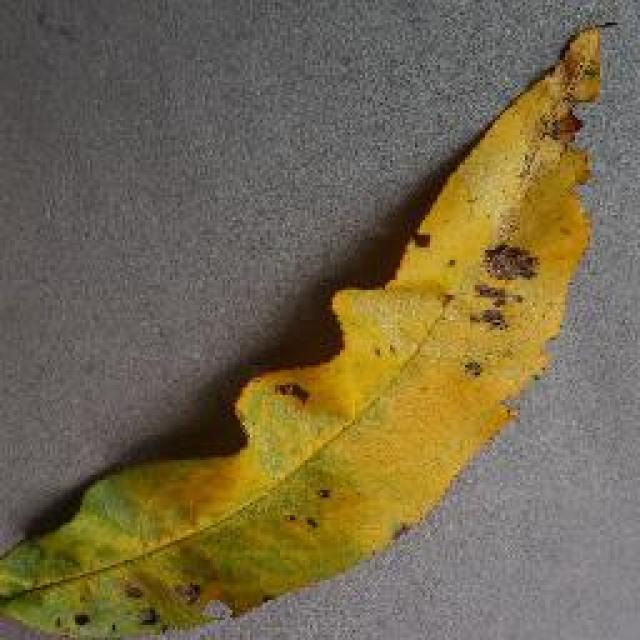Peach_Bacterial_Spot: (337, 74, 590, 414)
